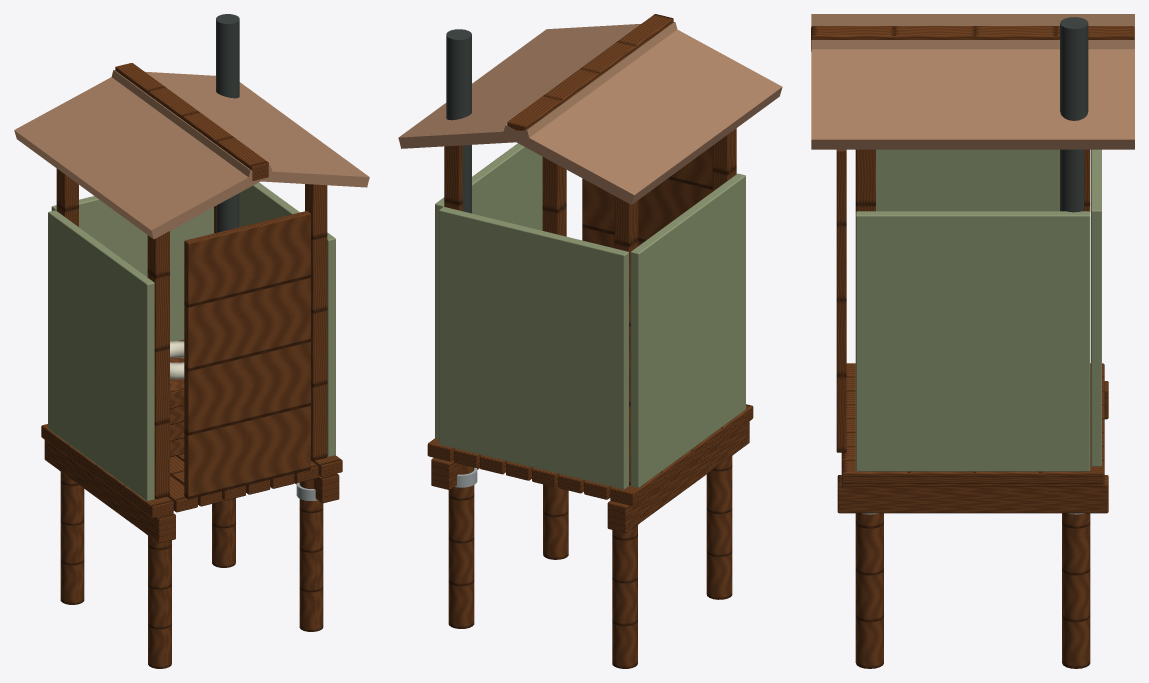
Rendered from flooded-and-coastal-survival-raised-latrine-dc936056__20052.glb.
3 views of the same model, side by side, from view 1: azimuth 30°, elevation 25°; view 2: azimuth 150°, elevation 25°; view 3: azimuth 270°, elevation 25° (orthographic). The views are drawn at different scales.
Visible parts, largest first — view 1: raised-latrine, latrine-door/wood; view 2: raised-latrine, latrine-door/wood; view 3: raised-latrine, latrine-door/wood.
Boxes of the visible parts, bbox=[...] form: raised-latrine: bbox=[14, 14, 369, 668]; latrine-door/wood: bbox=[184, 211, 310, 499]; raised-latrine: bbox=[398, 14, 782, 668]; latrine-door/wood: bbox=[582, 146, 712, 247]; raised-latrine: bbox=[811, 14, 1134, 668]; latrine-door/wood: bbox=[836, 149, 846, 452].
Size of the model in its own units: 1.47 by 3.5 by 1.6.
6 materials, 1 textured.
